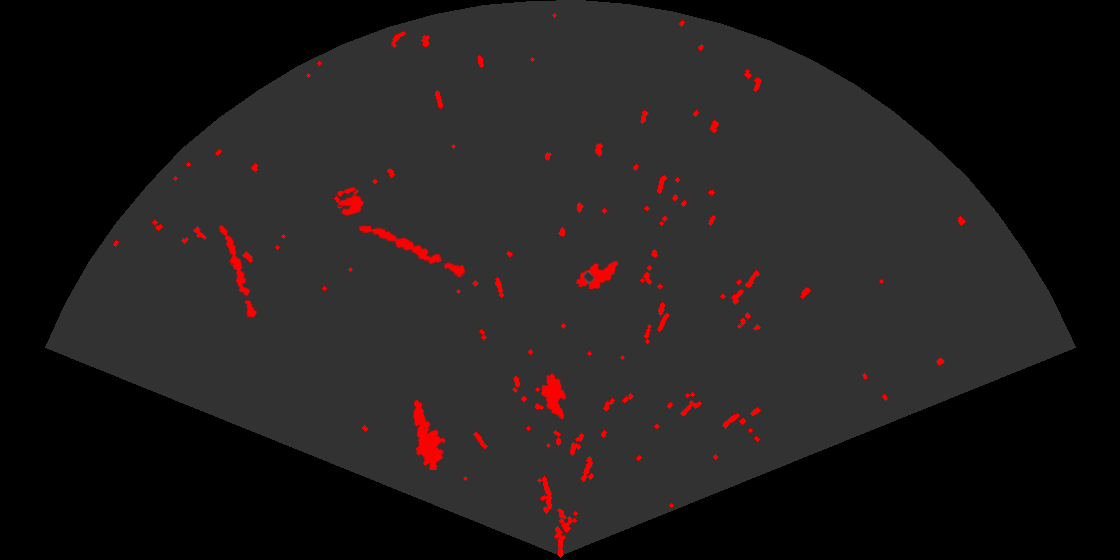AUV: (574, 259, 620, 291), (539, 372, 568, 421)
ball: (335, 185, 366, 218)
chain: (357, 224, 467, 279), (217, 224, 259, 320)
frogman: (412, 398, 448, 470)
